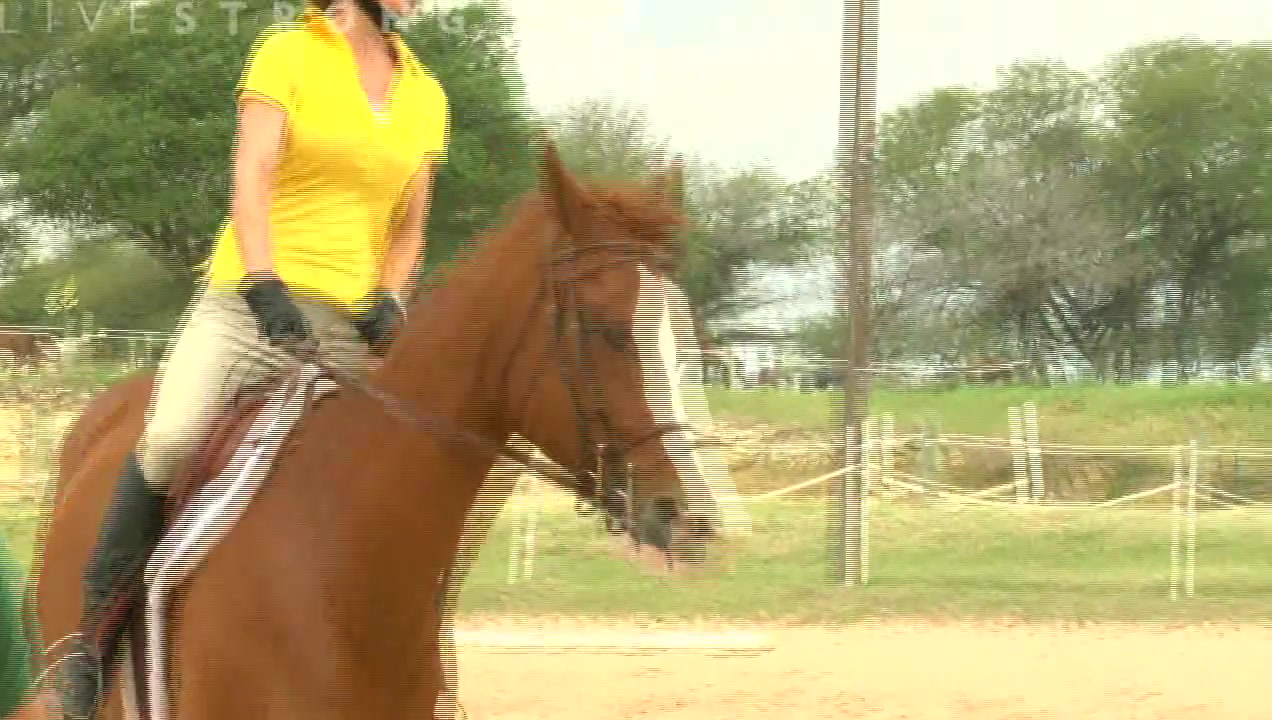horse: (1, 140, 749, 720)
